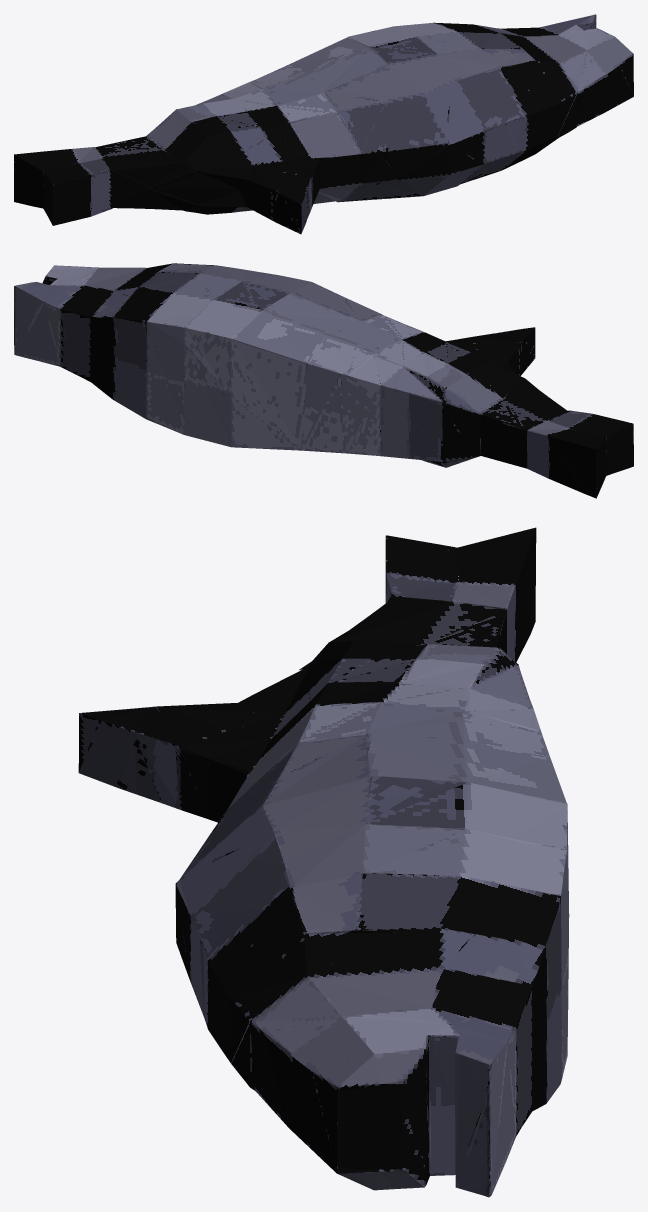
The picture shows the model from 3 angles, top to bottom: view 1: azimuth 30°, elevation 25°; view 2: azimuth 150°, elevation 25°; view 3: azimuth 270°, elevation 25°; orthographic projection. The views are drawn at different scales.
Parts seen in each view (by area): view 1: OBJ0b6; view 2: OBJ0b6; view 3: OBJ0b6.
Part boxes in pixels (left/top/right/bottom): OBJ0b6: left=14, top=14, right=633, bottom=234; OBJ0b6: left=14, top=263, right=633, bottom=498; OBJ0b6: left=78, top=527, right=569, bottom=1197.
Bounding box in the file's own units: 0.3353 × 0.0703 × 0.1247.
Materials: 1 (1 with a texture image).
